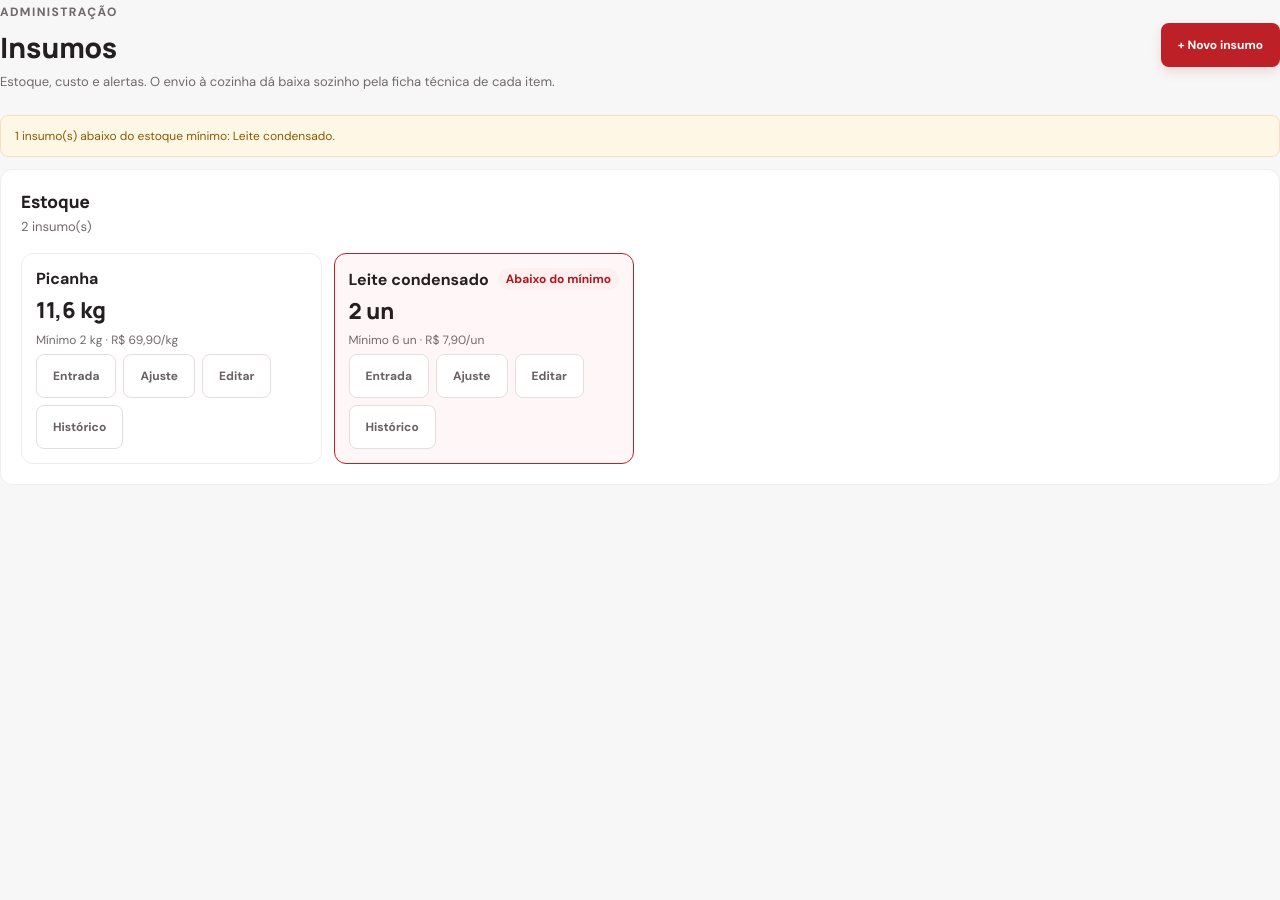
Test: Insumos, ficha técnica e CMV (RN-15) › lista o estoque com alerta de mínimo e registra entrada e ajuste
This screenshot has width=1280, height=900.
Check: the text "1 insumo(s) abaixo do estoque mínimo: Leite condensado." is shown, box left=0, top=115, right=1279, bottom=157
Check: the text "Abaixo do mínimo" is shown, box left=498, top=268, right=619, bottom=290
Click the button "Entrada" below "2 kg" at (76, 376), box left=36, top=354, right=116, bottom=398
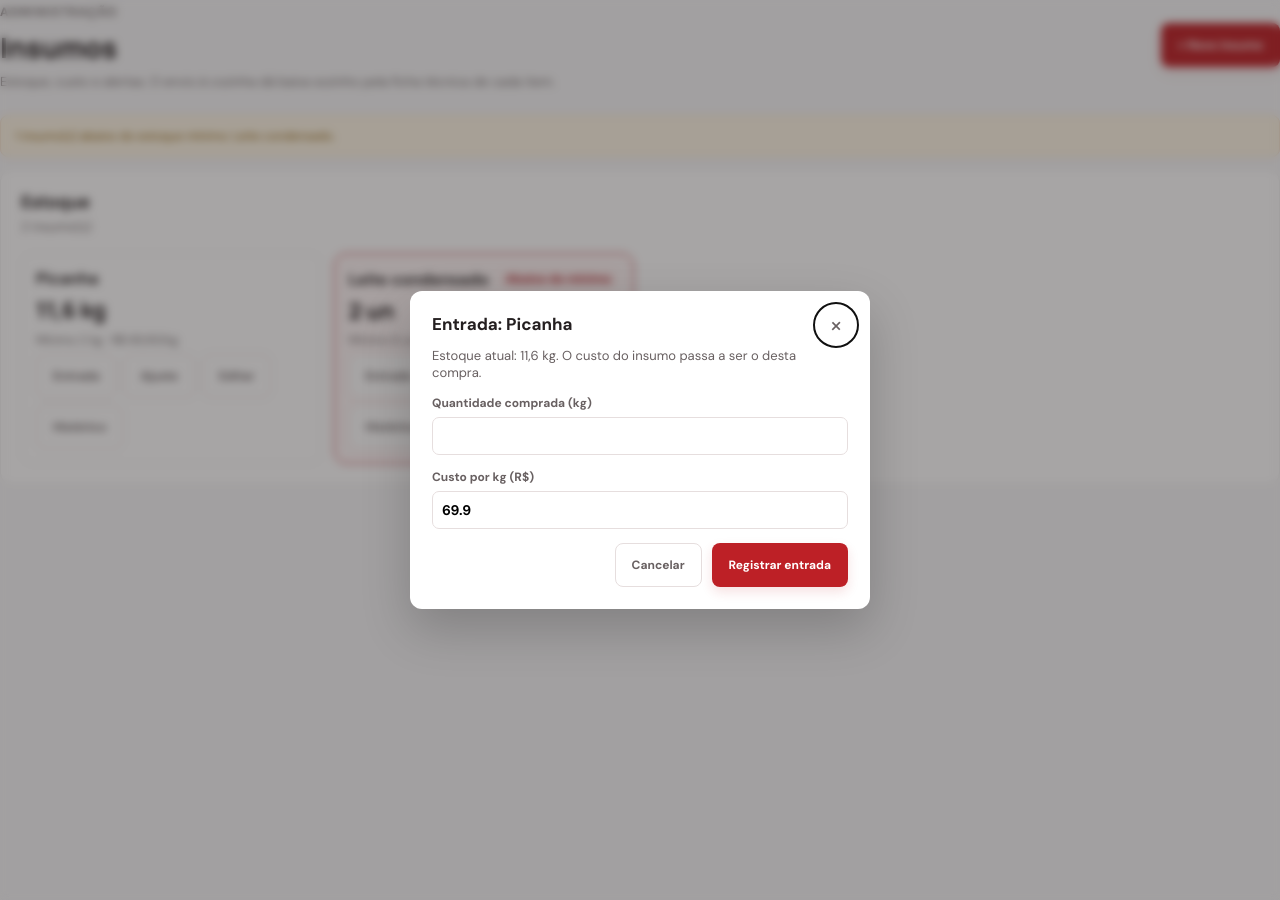
Type "5" into the number field labelled "Quantidade comprada (kg)" at (640, 436), box left=432, top=417, right=848, bottom=455
Replace the text in the number field labelled "Custo por kg (R$)" with "72.5" at (640, 510), box left=432, top=491, right=848, bottom=529
Click the button "Registrar entrada" at (780, 565), box left=712, top=543, right=848, bottom=587
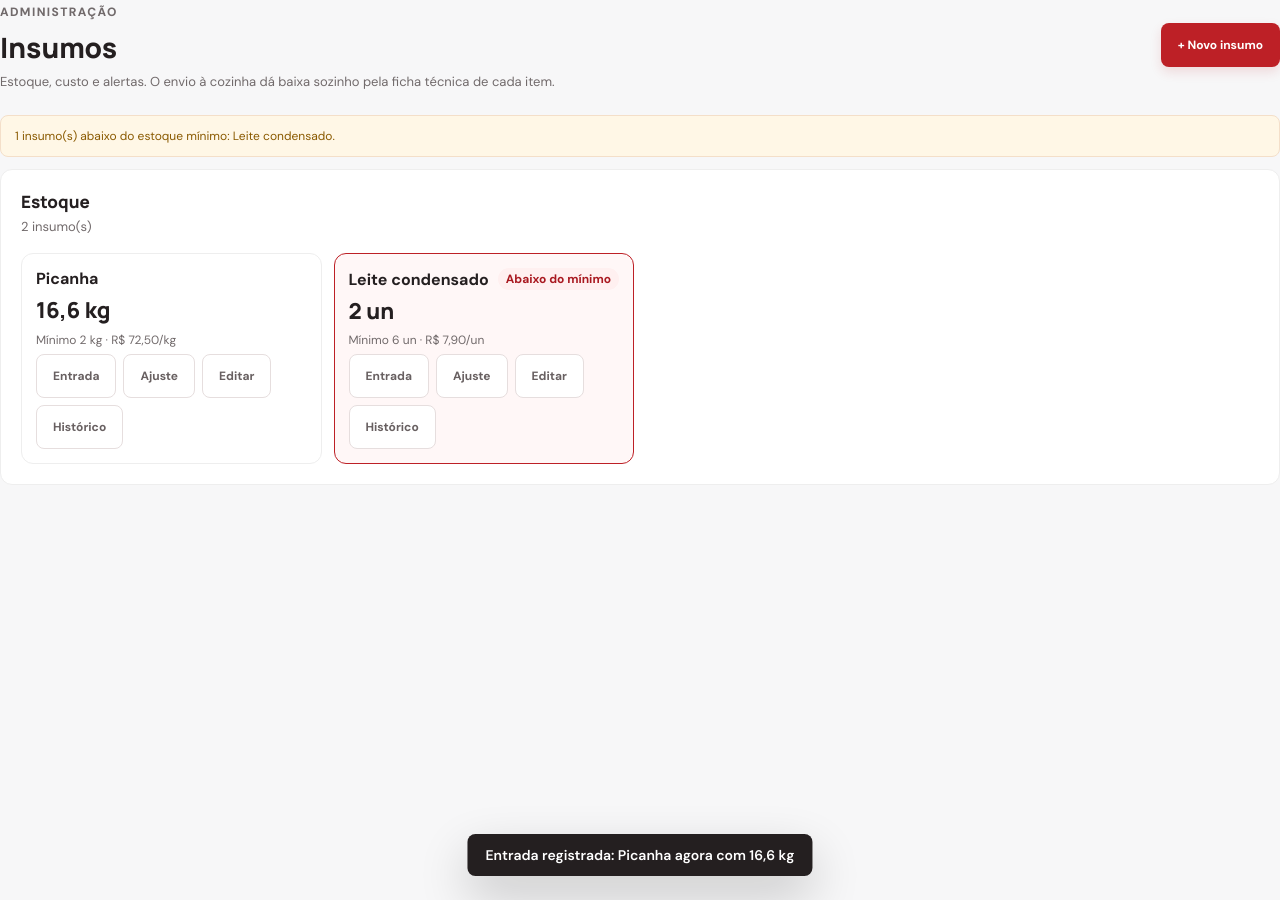
Check: the message reads "Entrada registrada: Picanha agora com 16,6 kg", box left=486, top=846, right=795, bottom=864
Click the button "Ajuste" below "6 un" at (472, 376), box left=436, top=354, right=508, bottom=398
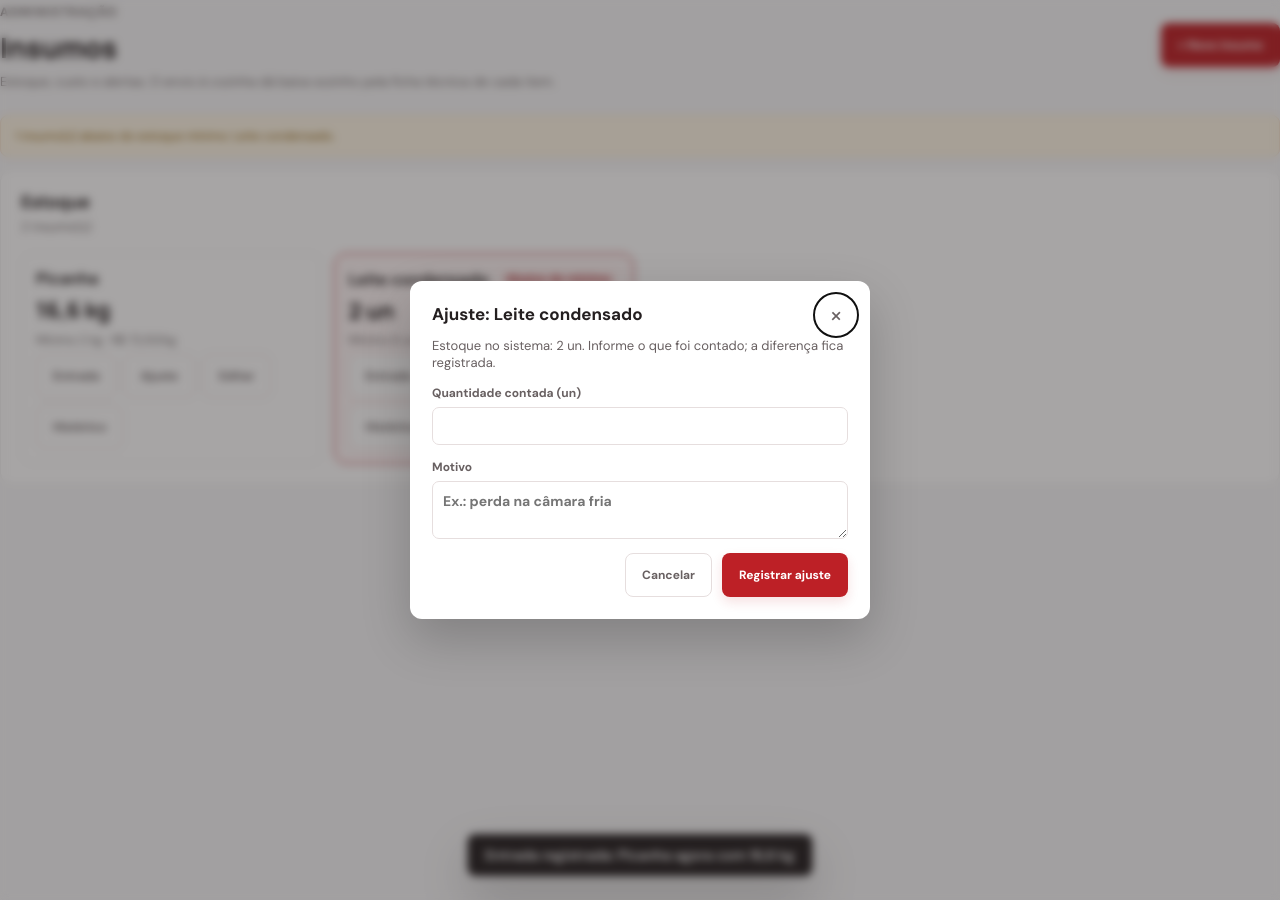
Type "1" into the number field labelled "Quantidade contada (un)" at (640, 426), box left=432, top=407, right=848, bottom=445
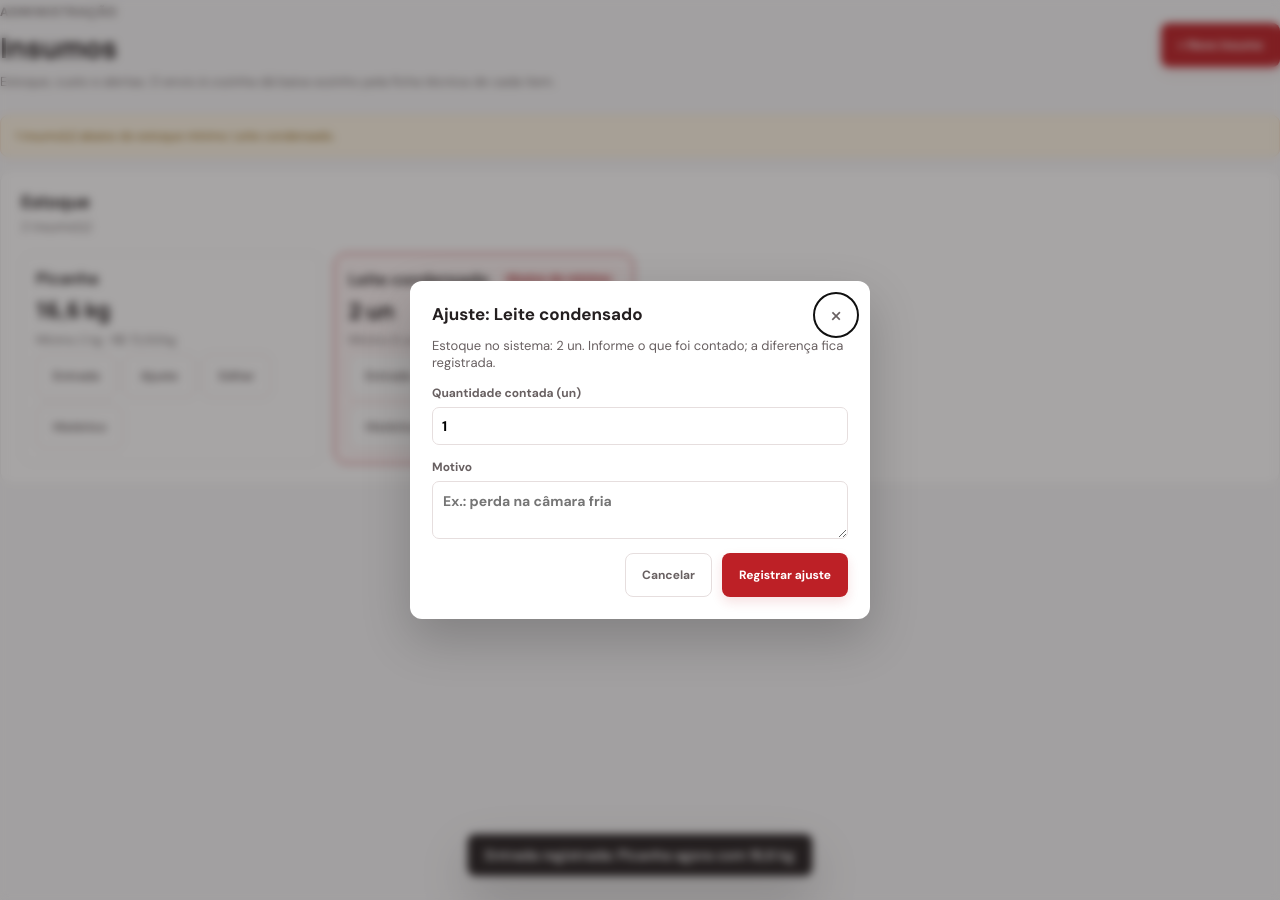
Type "Lata amassada" into the text box labelled "Motivo" at (640, 510), box left=432, top=481, right=848, bottom=539
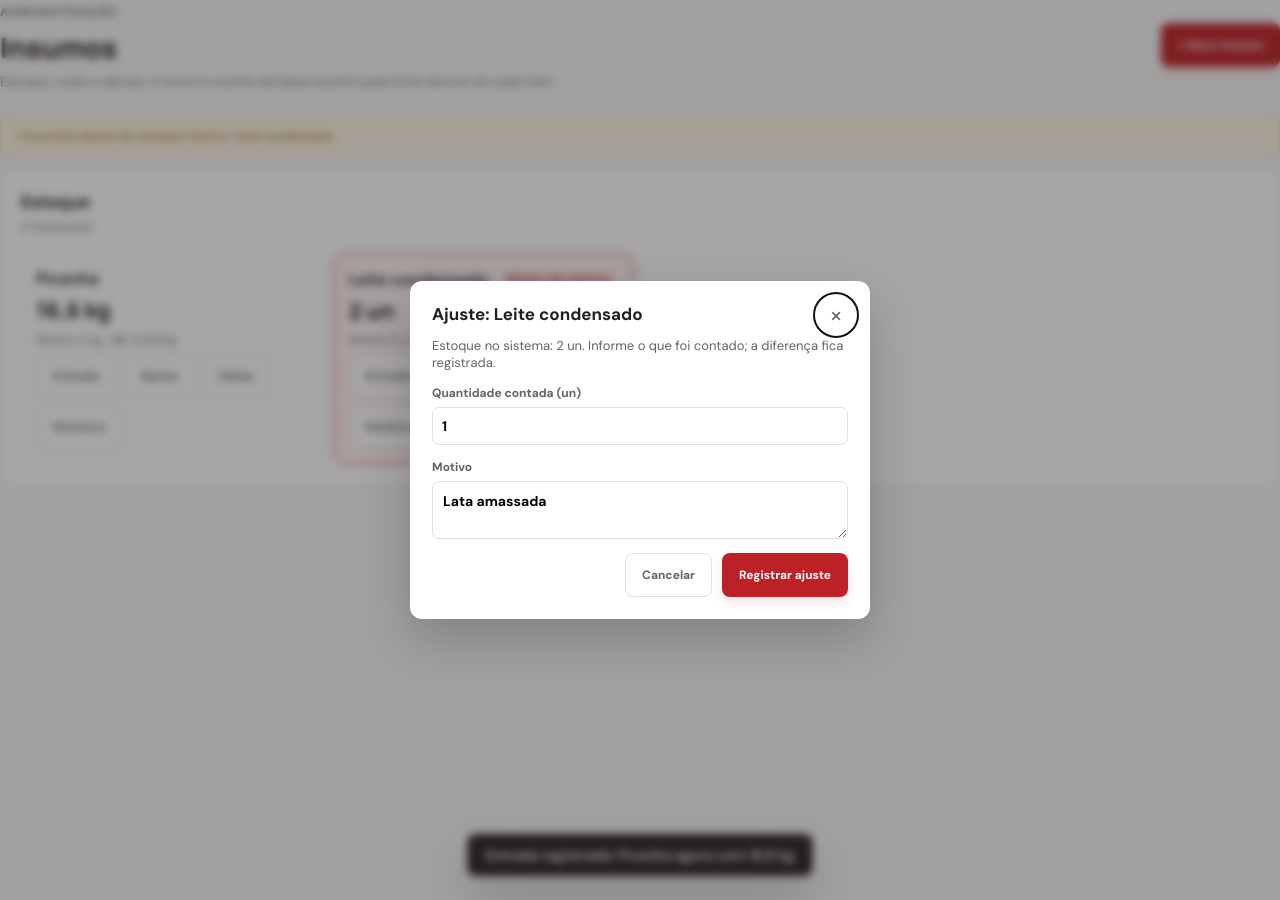
Click the button "Registrar ajuste" at (785, 575), box left=722, top=553, right=848, bottom=597
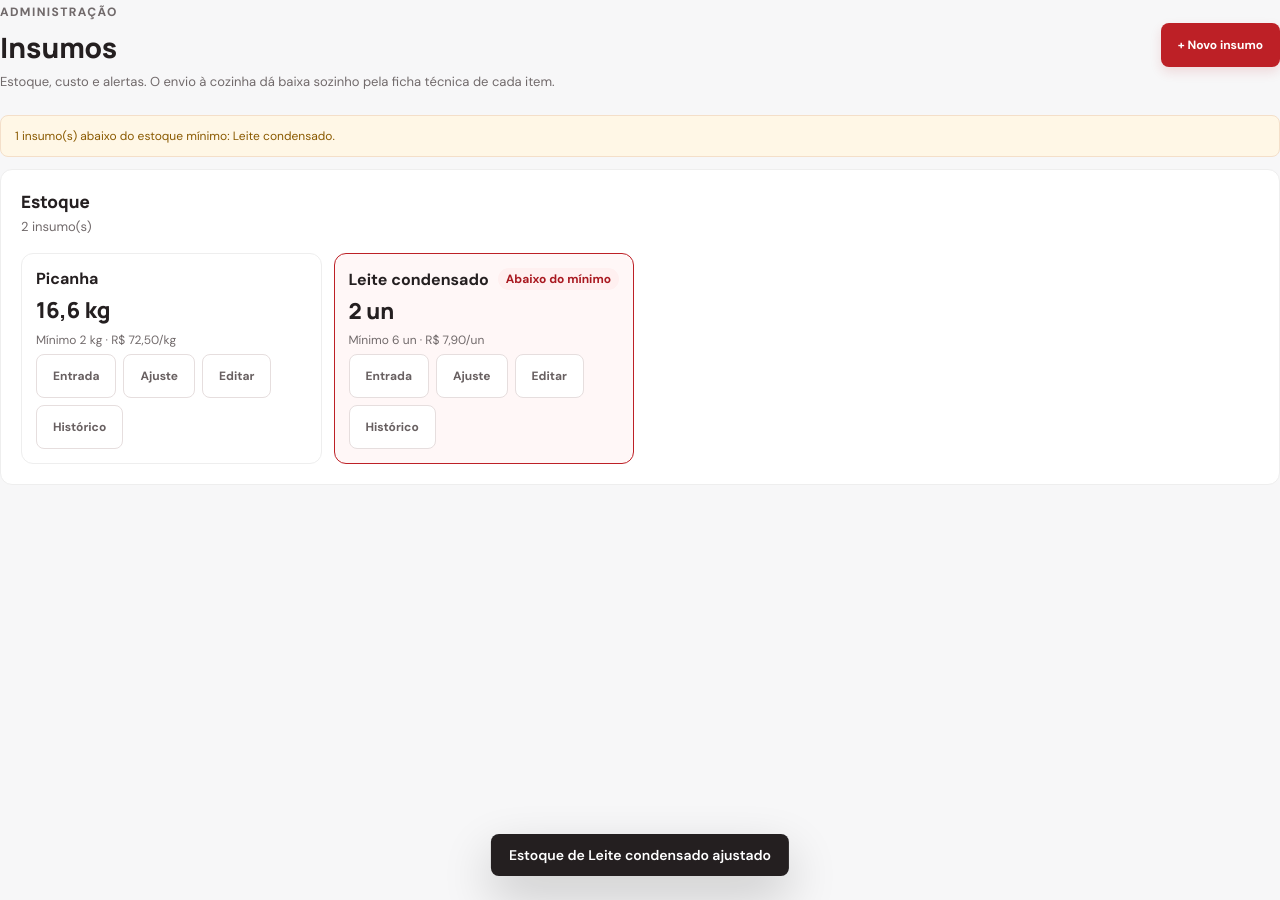
Check: the text "Estoque de Leite condensado ajustado" is shown, box left=491, top=834, right=789, bottom=876
